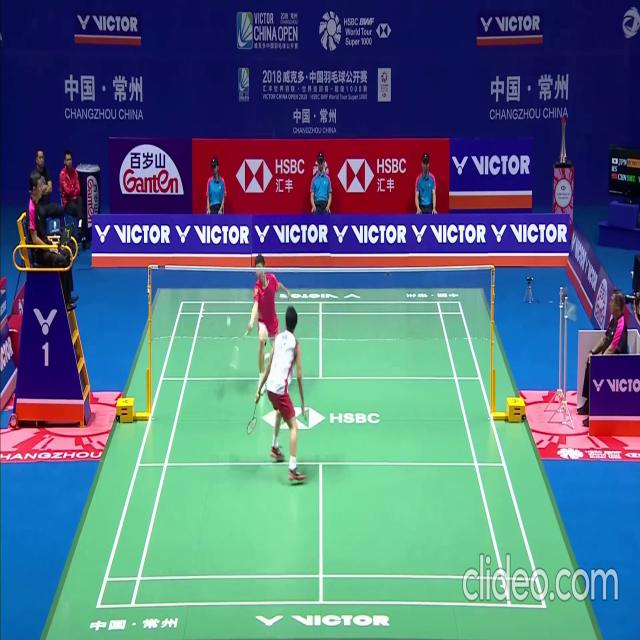Shuttlecock: (225, 319, 230, 326)
